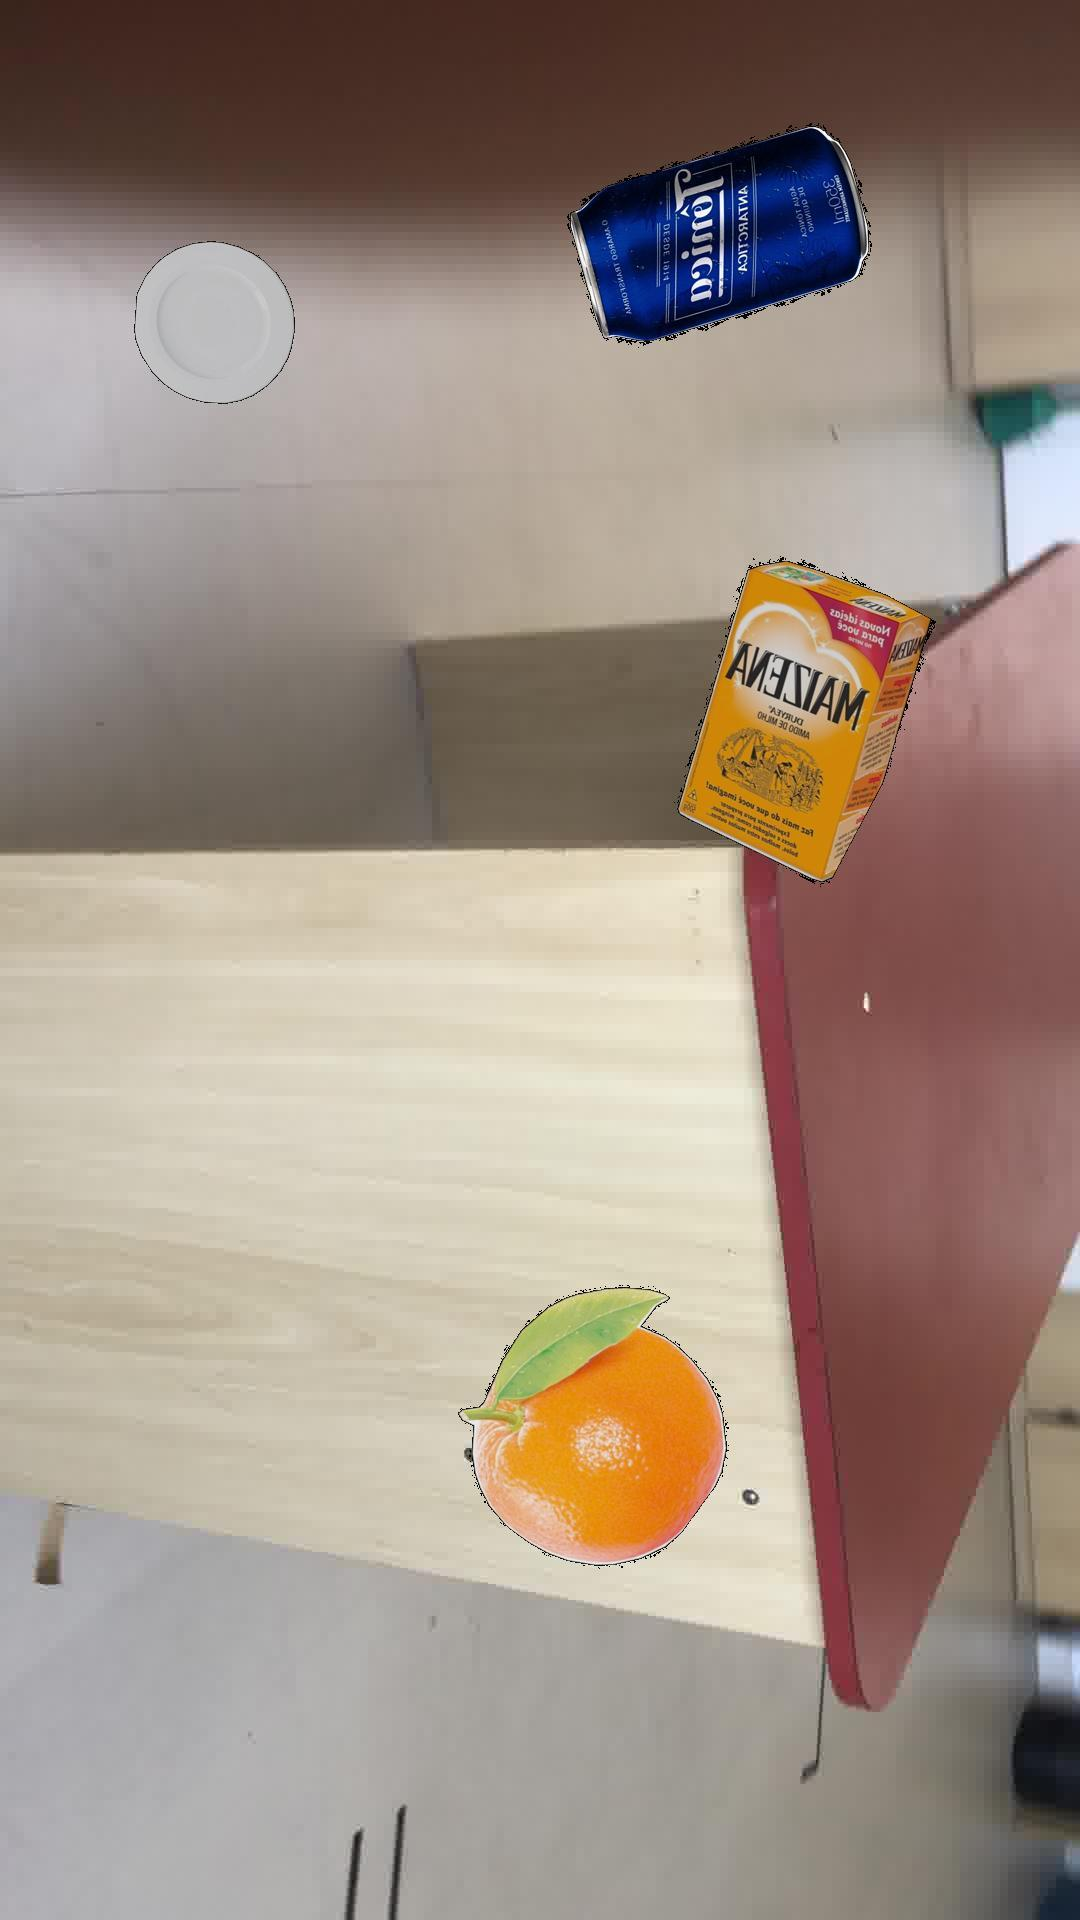orange: (456, 1284, 728, 1564)
plate: (132, 240, 293, 402)
tonic: (566, 121, 869, 343)
